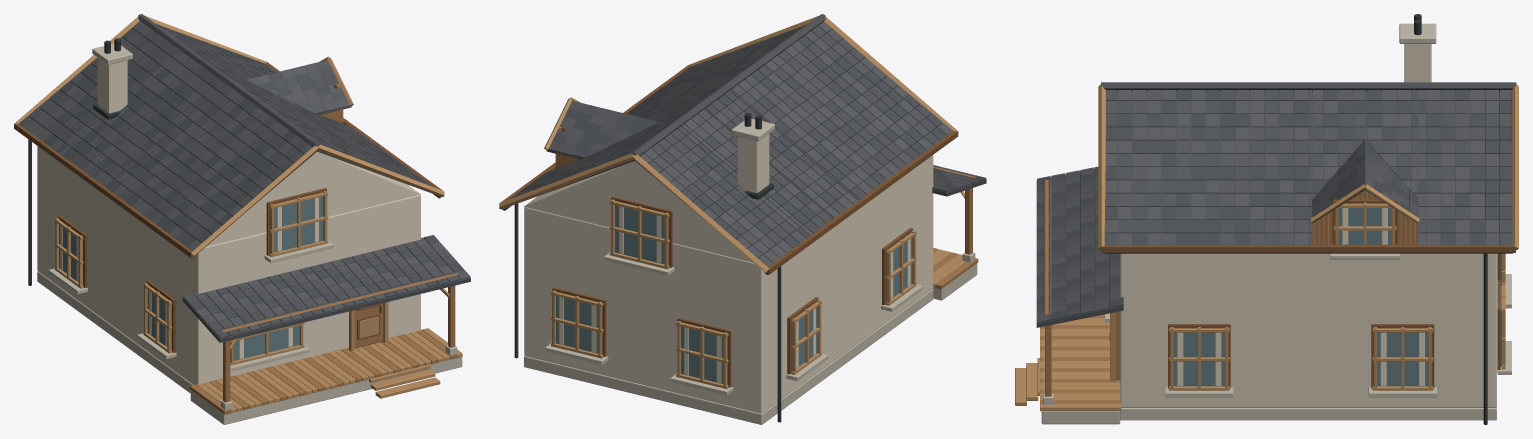
Rendered from SM_CreatorCoupleHouse_Blockout.fbx.
3 renders of one model, left to right at view 1: azimuth 30°, elevation 25°; view 2: azimuth 150°, elevation 25°; view 3: azimuth 270°, elevation 25°, orthographic. The views are drawn at different scales.
Visible parts, largest first — view 1: SM_CreatorCoupleHouse_Blockout; view 2: SM_CreatorCoupleHouse_Blockout; view 3: SM_CreatorCoupleHouse_Blockout.
Part boxes in pixels (<box>): SM_CreatorCoupleHouse_Blockout: <box>14,14,470,424</box>; SM_CreatorCoupleHouse_Blockout: <box>499,14,986,424</box>; SM_CreatorCoupleHouse_Blockout: <box>1015,14,1518,424</box>.
Size of what is drawn, in the model's own units: 910 by 1337 by 875.
